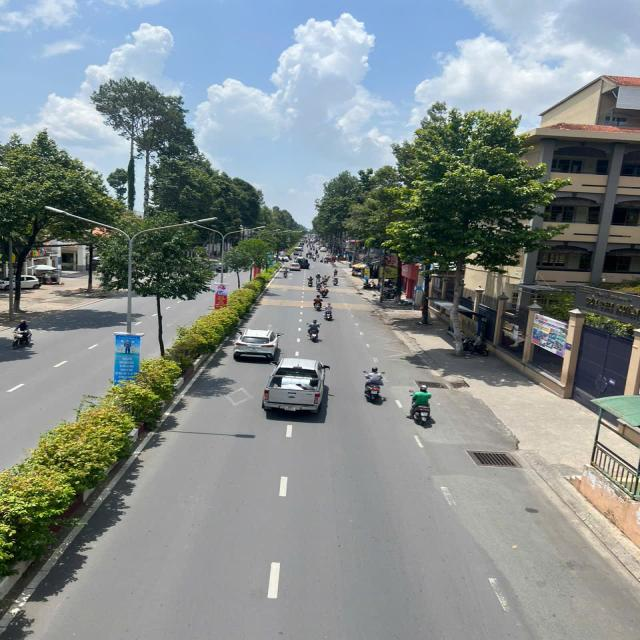car: (260, 352, 331, 419), (230, 325, 284, 366), (295, 255, 311, 271), (287, 261, 303, 272)
motobyte: (407, 382, 438, 429), (360, 362, 391, 406), (304, 317, 324, 344), (310, 292, 325, 312), (323, 300, 335, 322), (304, 274, 316, 291), (281, 265, 290, 280)
